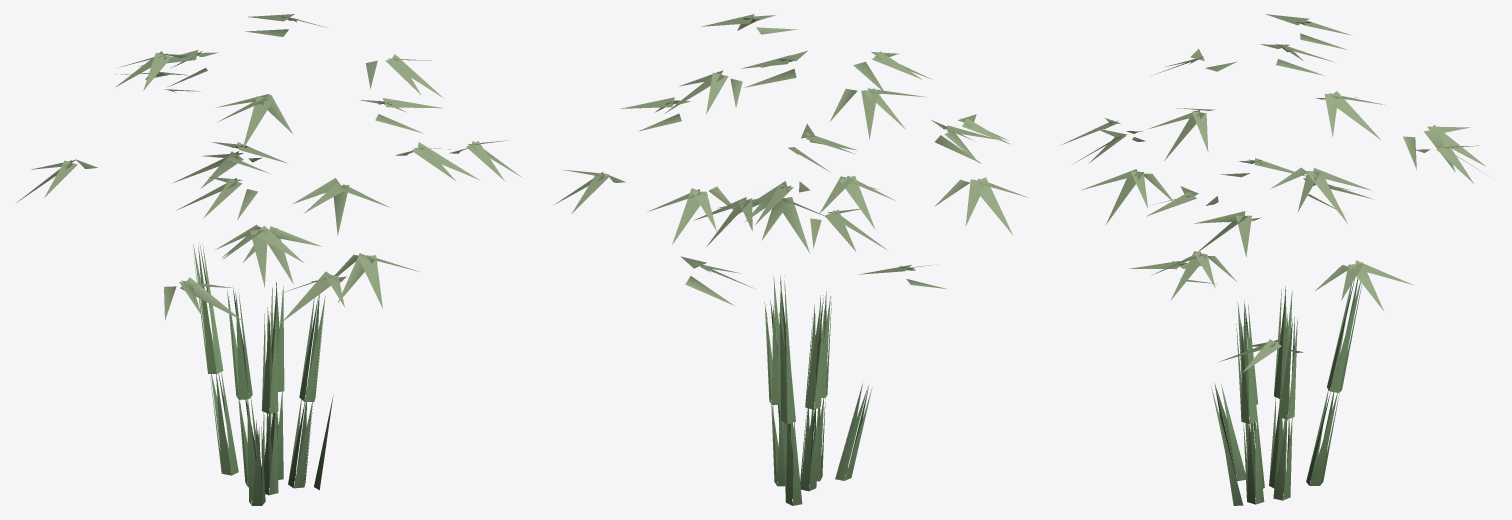
The model's file is bamboo.lod.glb.
3 renders of one model, left to right at view 1: azimuth 30°, elevation 25°; view 2: azimuth 150°, elevation 25°; view 3: azimuth 270°, elevation 25°, orthographic. The views are drawn at different scales.
Visible parts, largest first — view 1: bamboo; view 2: bamboo; view 3: bamboo.
Part boxes in pixels (bbox=[...]): bamboo: bbox=[16, 14, 521, 505]; bamboo: bbox=[553, 14, 1028, 505]; bamboo: bbox=[1059, 14, 1486, 505].
Size of the model in its own units: 7.05 by 6.54 by 6.09.
